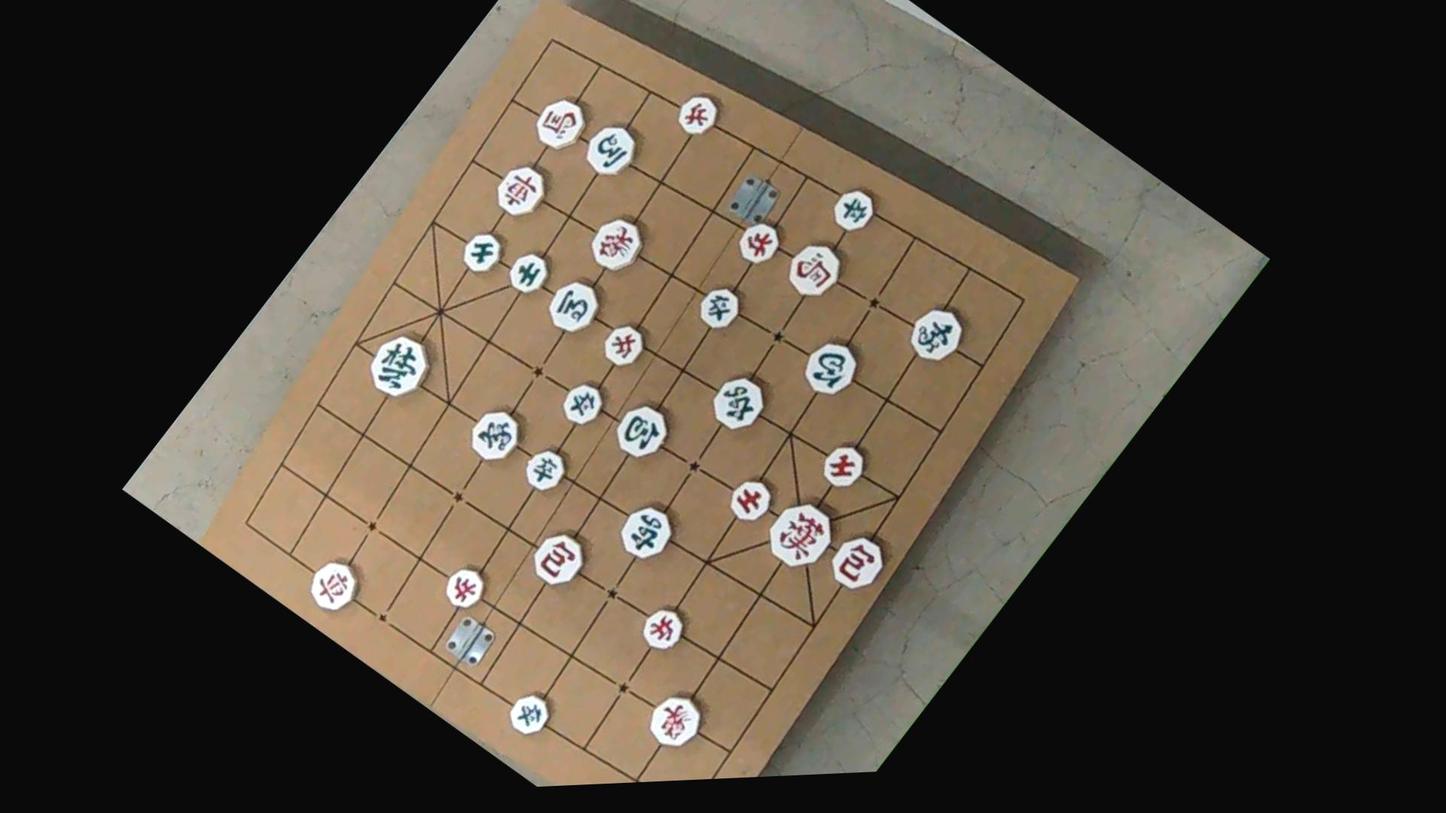cha_green: (702, 367, 775, 439), (612, 497, 683, 567)
cha_red: (298, 553, 368, 620), (489, 154, 557, 222)
jol_green: (518, 441, 575, 497), (692, 280, 749, 336), (555, 376, 612, 432), (828, 182, 884, 238), (501, 687, 557, 741)
jol_red: (634, 602, 692, 659), (731, 213, 789, 270), (670, 89, 727, 145), (441, 559, 496, 614), (599, 318, 654, 373)
ma_green: (578, 114, 649, 184), (541, 272, 611, 340)
ma_red: (779, 235, 853, 306), (526, 90, 594, 157)
po_green: (792, 330, 870, 406), (606, 394, 679, 466)
po_red: (822, 528, 895, 601), (523, 526, 595, 596)
sa_green: (499, 247, 554, 302), (456, 227, 510, 279)
sa_red: (722, 470, 781, 528), (819, 437, 877, 495)
sang_green: (900, 299, 975, 371), (460, 402, 531, 471)
sang_red: (639, 686, 711, 756), (580, 209, 651, 279)
wang_green: (357, 324, 441, 407)
wang_red: (755, 492, 845, 579)
